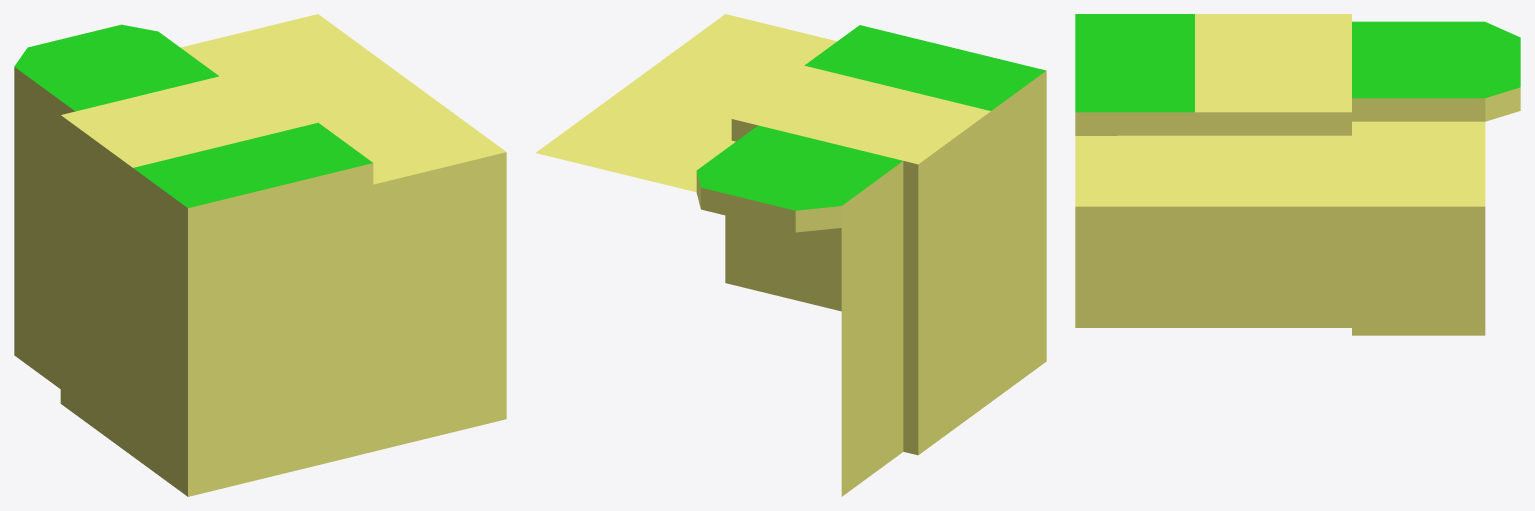
Rendered from ZooScene.fbx.
3 renders of one model, left to right at view 1: azimuth 30°, elevation 25°; view 2: azimuth 150°, elevation 25°; view 3: azimuth 270°, elevation 25°, orthographic. The views are drawn at different scales.
Visible parts, largest first — view 1: Box001; view 2: Box001; view 3: Box001.
Boxes of the visible parts, box(x1,y1,x2,y2) form: Box001: box(14, 14, 506, 496); Box001: box(536, 14, 1046, 496); Box001: box(1075, 14, 1520, 335).
Bounding box in the file's own units: 8.55 × 7.4 × 9.52.
